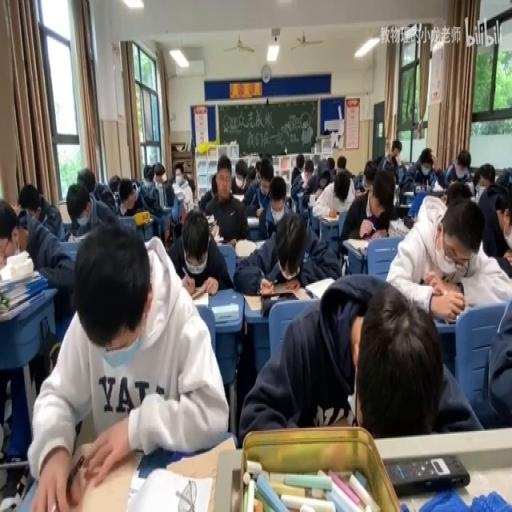calculator: (70, 440, 141, 510), (126, 465, 213, 512), (244, 284, 310, 308), (305, 276, 334, 299), (212, 302, 238, 322), (234, 238, 257, 256), (344, 238, 370, 253), (387, 218, 408, 236), (62, 242, 80, 260), (191, 289, 210, 304), (155, 182, 164, 206), (209, 222, 219, 240), (320, 213, 339, 222), (72, 230, 89, 240), (246, 214, 260, 224), (254, 239, 266, 250), (429, 188, 445, 196), (232, 193, 246, 202), (308, 195, 316, 206), (206, 215, 215, 223), (215, 235, 224, 243), (404, 191, 414, 196), (297, 191, 304, 196)
paper: (240, 273, 482, 442), (3, 192, 74, 458), (385, 192, 510, 316), (234, 206, 336, 294), (469, 278, 510, 430), (339, 165, 395, 256), (202, 155, 247, 246), (247, 158, 283, 233), (0, 197, 26, 268), (78, 166, 118, 212), (400, 145, 438, 193), (493, 185, 512, 269), (116, 176, 150, 222), (170, 160, 194, 218), (293, 156, 320, 206), (442, 148, 474, 190), (382, 138, 405, 183), (407, 189, 436, 218), (18, 185, 40, 216), (474, 162, 494, 192), (197, 178, 214, 210), (334, 172, 350, 202), (494, 170, 510, 194), (434, 166, 447, 190), (316, 161, 330, 182), (363, 164, 377, 184), (354, 171, 367, 192), (244, 164, 256, 186), (164, 184, 174, 206), (142, 165, 154, 183), (10, 199, 22, 216), (154, 168, 165, 183), (427, 152, 437, 168), (254, 159, 262, 178), (466, 181, 476, 196), (186, 176, 194, 194), (326, 155, 334, 172), (373, 155, 383, 168), (314, 186, 324, 199), (337, 155, 346, 169)
person: (383, 452, 469, 494), (395, 202, 411, 219), (441, 311, 461, 323)
